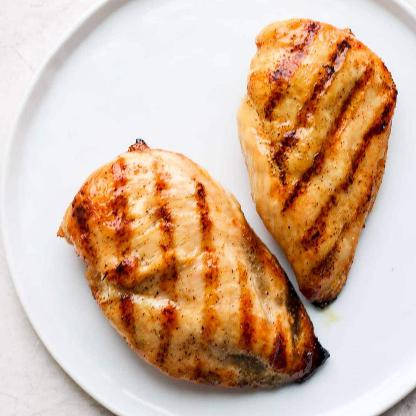grilled chicken breast: (56, 140, 328, 390), (237, 15, 393, 309)
